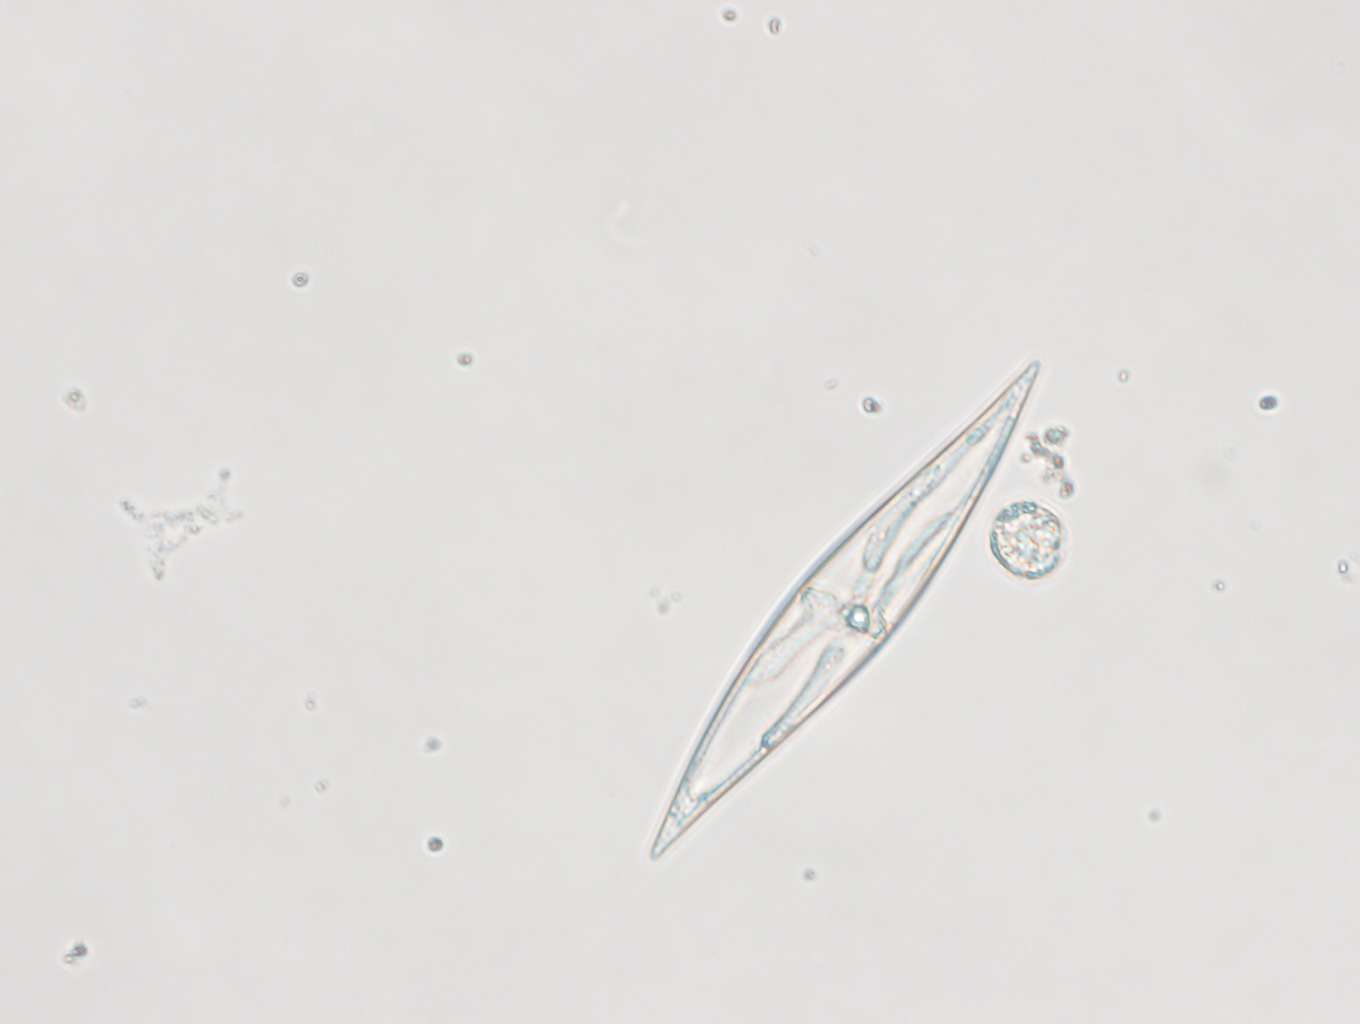pleurosigma pelagicum: (648, 355, 1045, 864)
